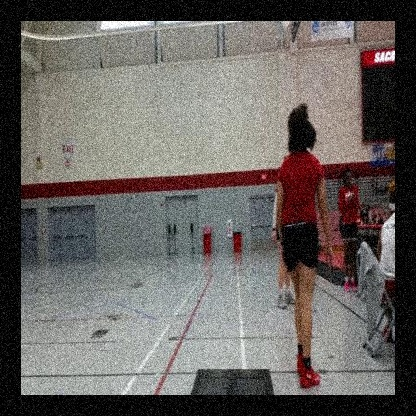lateral_flexion_left: (275, 100, 335, 395)
stance_width_narrow: (275, 147, 321, 395)
